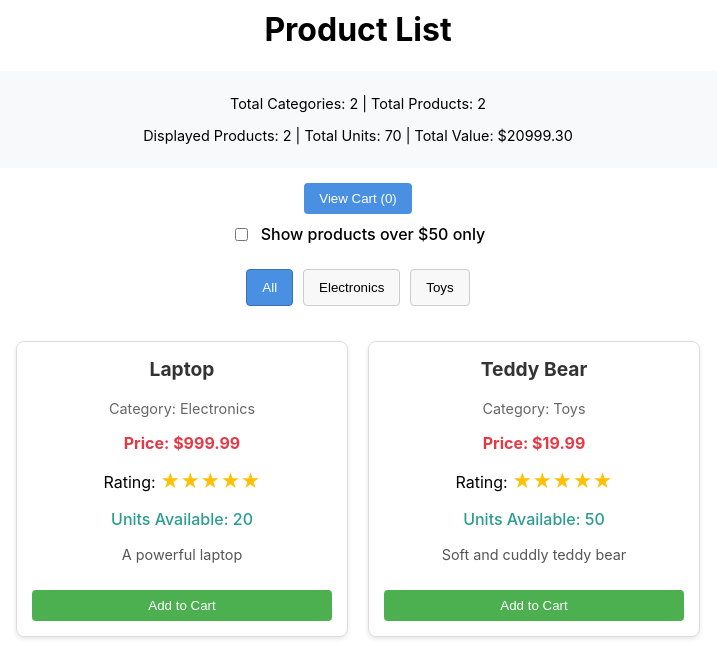
Test: App Component › filters products when category button is clicked
Note: Click Electronics category
Step 1. Click the button "Electronics" → [352, 288], box x1=303 y1=269 x2=400 y2=306
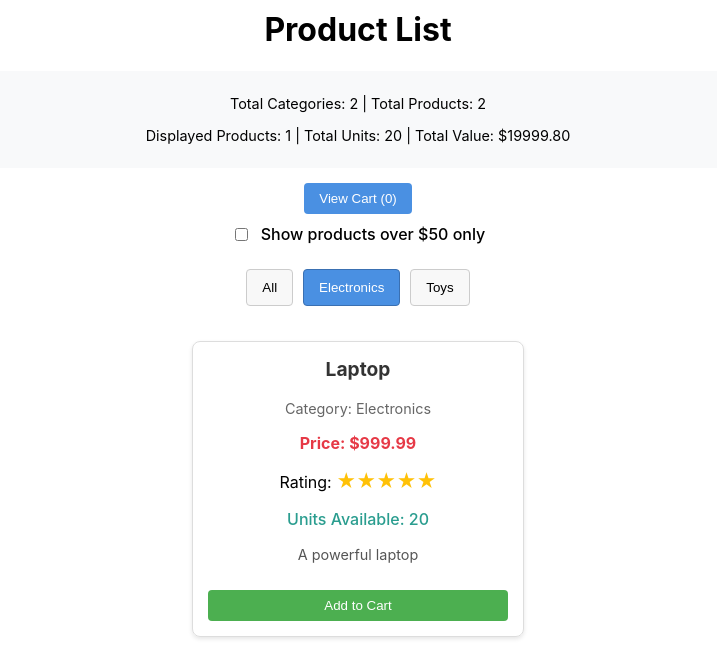
Expected: the heading "Laptop" is shown, x1=326 y1=357 x2=390 y2=381
Expected: the heading "Teddy Bear" is gone
